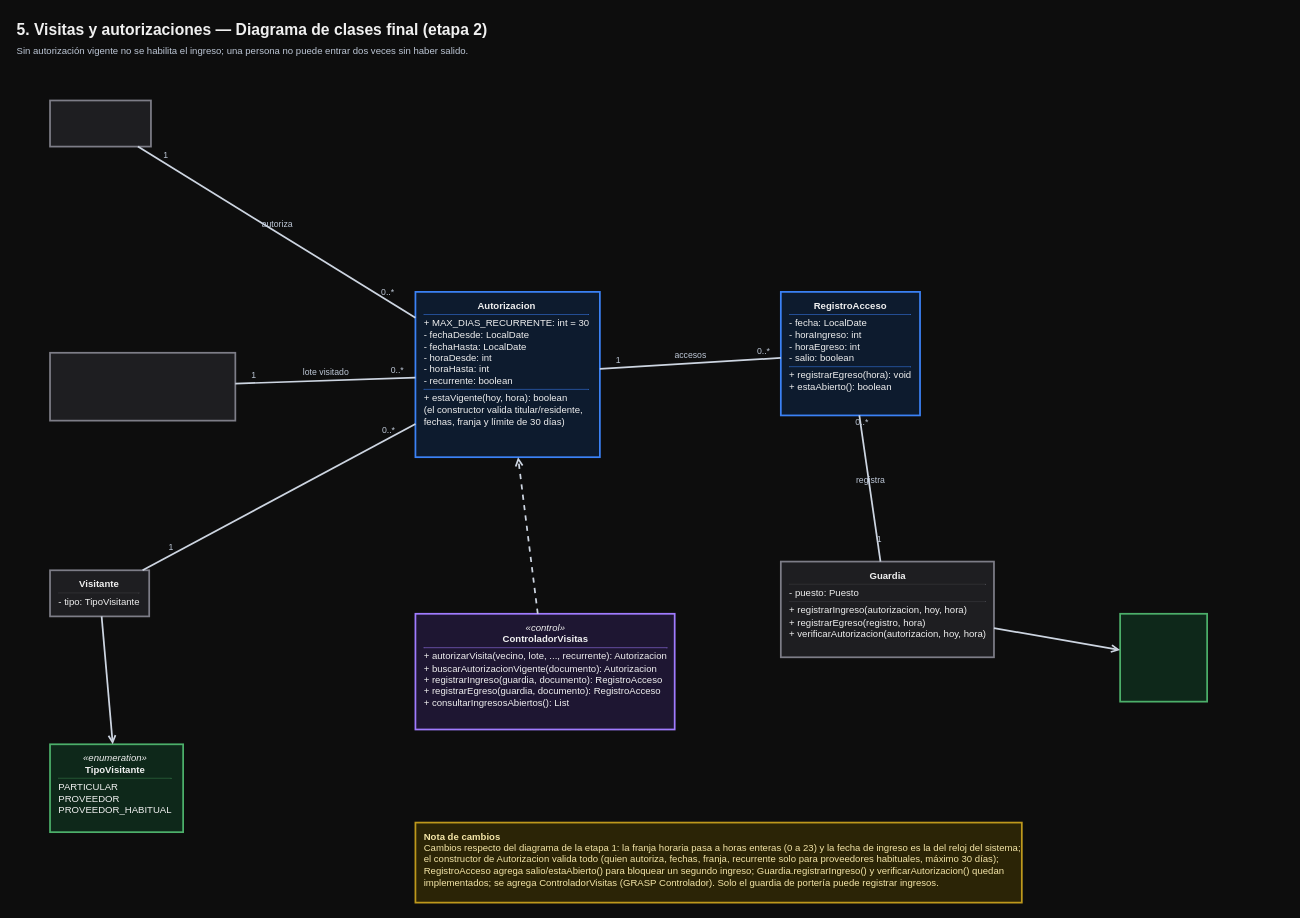
Image size: 1300x918. Some labels were removed from this diagram. The shapes that lost their labels are listed below. From the top down, each one's centre as x and y in pixels, then its label:
At (x=100, y=123): "Vecino - documento: String".
At (x=142, y=386): "Lote - numero: int + esTitularOResidente(vecino): boolean".
At (x=1163, y=657): "«enumeration» Puesto PORTERIA RONDA MONITOREO".
